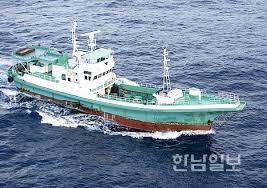Ship: (3, 17, 252, 144)
